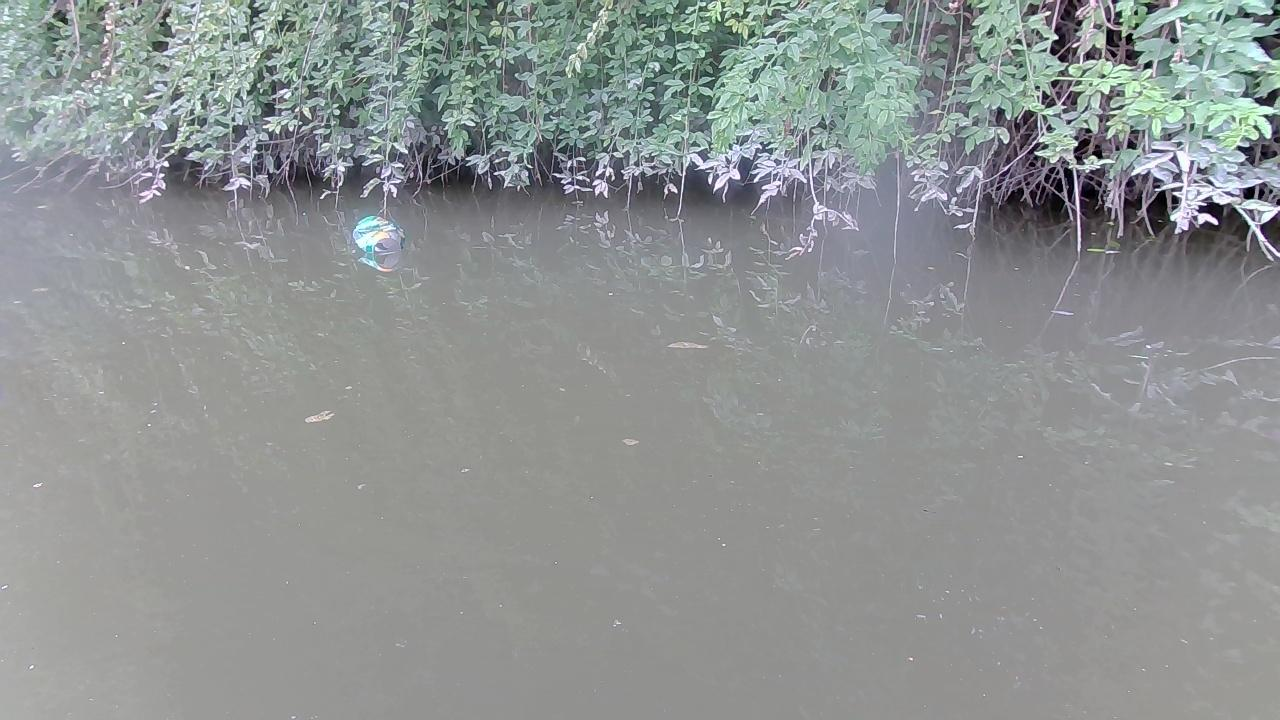bottle: (352, 211, 406, 269)
